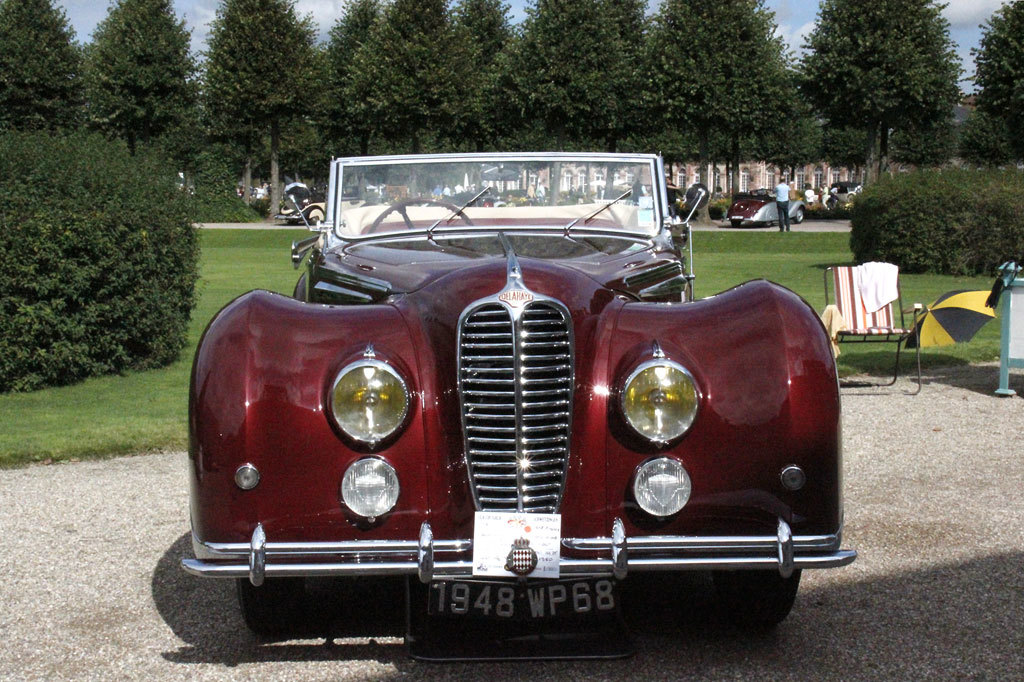Car: (177, 149, 856, 663), (188, 180, 862, 225)
